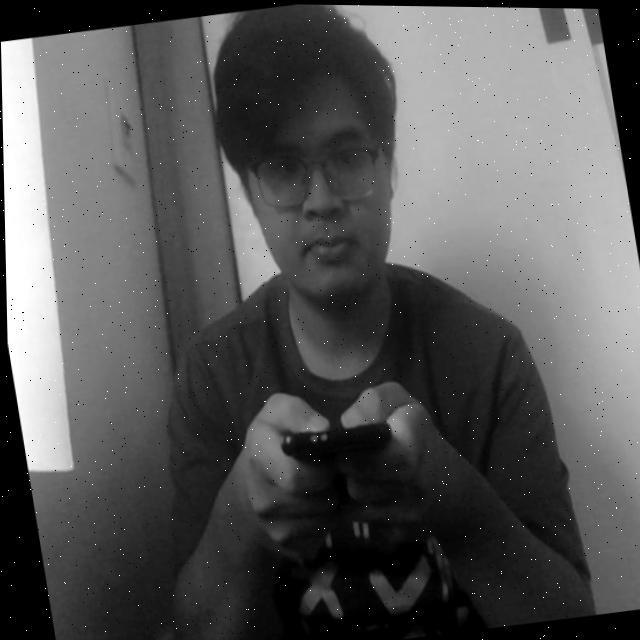phone: (268, 381, 405, 494)
